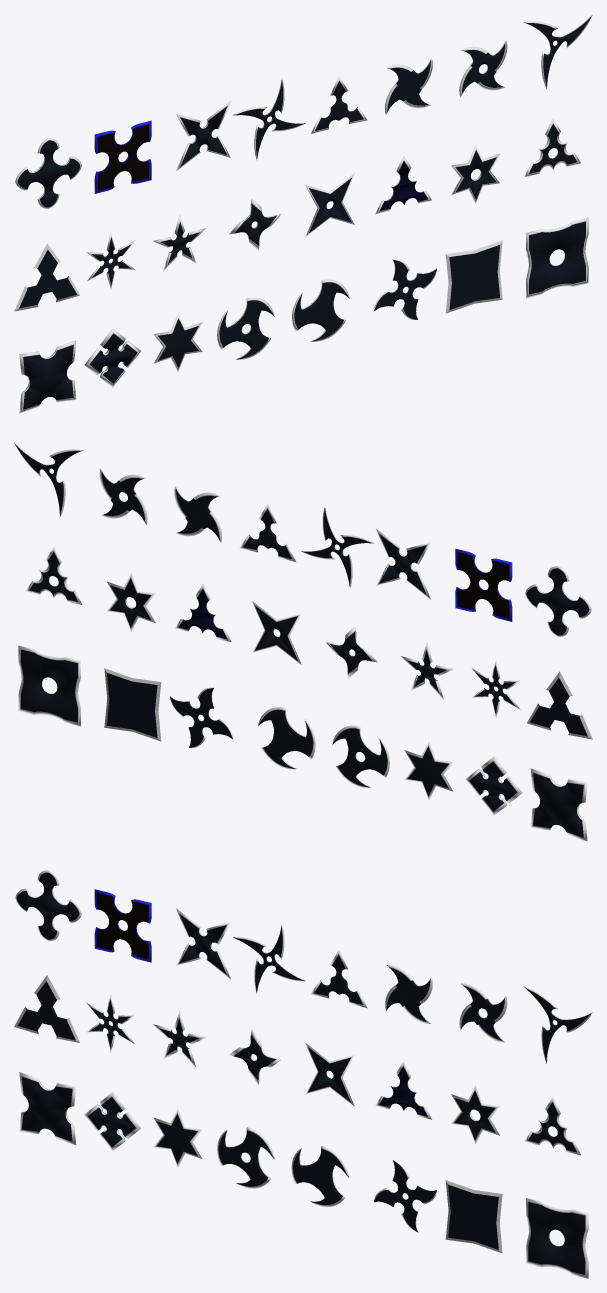
The model's file is LowPoly Shurikens.glb.
3 renders of one model, top to bottom at view 1: azimuth 30°, elevation 25°; view 2: azimuth 150°, elevation 25°; view 3: azimuth 330°, elevation 25°, orthographic.
Parts seen in each view (by area): view 1: Shuriken_3, Shuriken_21, Shuriken_22, Shuriken_6, Shuriken_9, Shuriken_16, Shuriken_18, Shuriken_12, Shuriken_13, Shuriken_2, Shuriken_17, Shuriken_20 (+12 smaller); view 2: Shuriken_3, Shuriken_21, Shuriken_22, Shuriken_6, Shuriken_9, Shuriken_16, Shuriken_18, Shuriken_12, Shuriken_13, Shuriken_2, Shuriken_17, Shuriken_20 (+12 smaller); view 3: Shuriken_3, Shuriken_21, Shuriken_22, Shuriken_6, Shuriken_9, Shuriken_16, Shuriken_18, Shuriken_12, Shuriken_13, Shuriken_2, Shuriken_17, Shuriken_20 (+12 smaller).
Part boxes in pixels (bbox=[...]): Shuriken_3: bbox=[526, 217, 588, 298]; Shuriken_21: bbox=[445, 240, 502, 313]; Shuriken_22: bbox=[19, 340, 76, 413]; Shuriken_6: bbox=[94, 120, 151, 193]; Shuriken_9: bbox=[15, 138, 81, 208]; Shuriken_16: bbox=[292, 279, 349, 341]; Shuriken_18: bbox=[217, 297, 274, 359]; Shuriken_12: bbox=[14, 243, 79, 311]; Shuriken_13: bbox=[84, 328, 140, 387]; Shuriken_2: bbox=[176, 101, 230, 171]; Shuriken_17: bbox=[374, 259, 437, 320]; Shuriken_20: bbox=[385, 58, 432, 114]; Shuriken_3: bbox=[18, 645, 80, 726]; Shuriken_21: bbox=[104, 668, 161, 741]; Shuriken_22: bbox=[530, 768, 587, 841]; Shuriken_6: bbox=[455, 548, 512, 621]; Shuriken_9: bbox=[525, 566, 591, 636]; Shuriken_16: bbox=[258, 707, 315, 769]; Shuriken_18: bbox=[332, 725, 389, 787]; Shuriken_12: bbox=[527, 671, 592, 739]; Shuriken_13: bbox=[466, 756, 522, 815]; Shuriken_2: bbox=[376, 529, 430, 599]; Shuriken_17: bbox=[169, 687, 232, 748]; Shuriken_20: bbox=[174, 486, 221, 542]; Shuriken_3: bbox=[526, 1198, 588, 1278]; Shuriken_21: bbox=[445, 1180, 502, 1253]; Shuriken_22: bbox=[19, 1072, 76, 1145]; Shuriken_6: bbox=[94, 889, 151, 962]; Shuriken_9: bbox=[15, 870, 81, 941]; Shuriken_16: bbox=[291, 1145, 348, 1207]; Shuriken_18: bbox=[217, 1127, 274, 1188]; Shuriken_12: bbox=[14, 975, 79, 1042]; Shuriken_13: bbox=[84, 1092, 140, 1150]; Shuriken_2: bbox=[176, 908, 230, 978]; Shuriken_17: bbox=[374, 1160, 436, 1232]; Shuriken_20: bbox=[384, 965, 432, 1023].
Bounding box in the file's own units: 20.33 × 9.4 × 0.0996.
